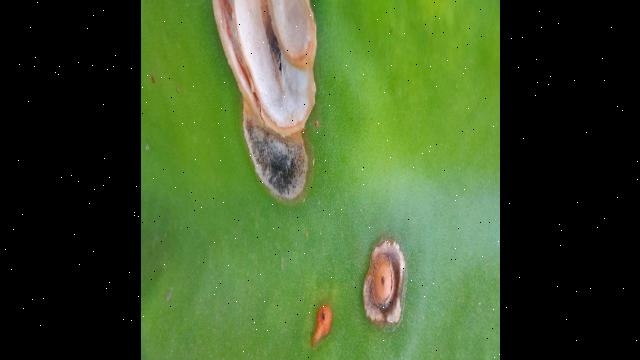stemcanker: (357, 232, 411, 333), (308, 300, 336, 350)
